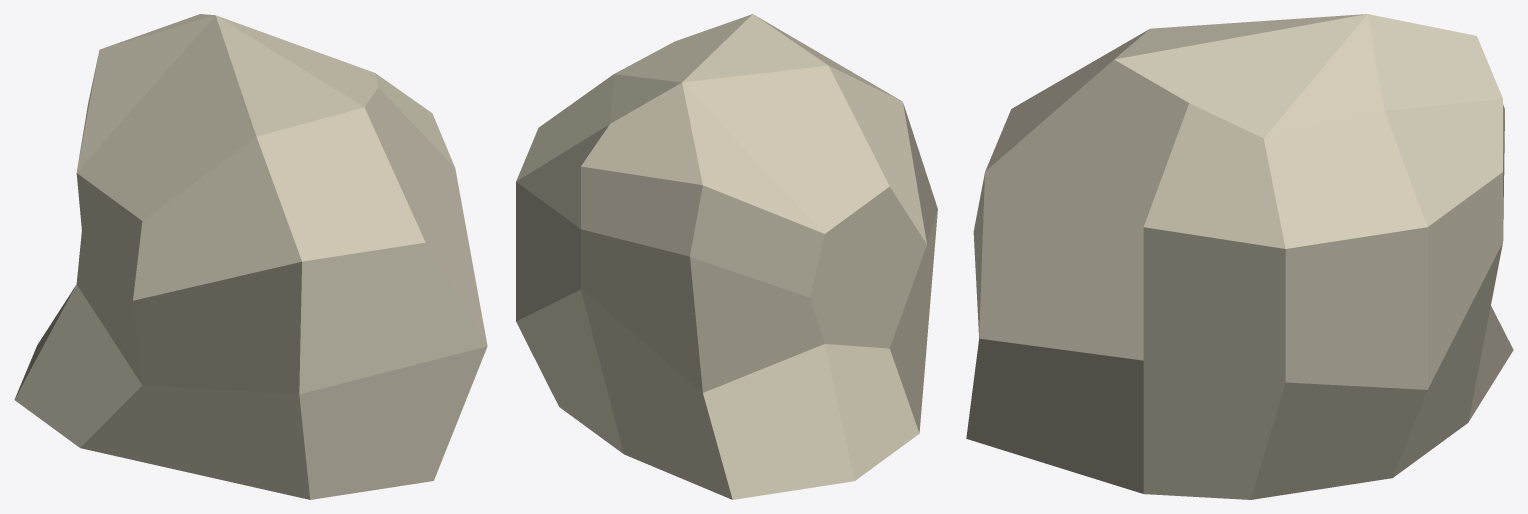
The model's file is Rock_15.fbx.
3 views of the same model, side by side, from view 1: azimuth 30°, elevation 25°; view 2: azimuth 150°, elevation 25°; view 3: azimuth 270°, elevation 25° (orthographic). The views are drawn at different scales.
Visible parts, largest first — view 1: pCylinder10; view 2: pCylinder10; view 3: pCylinder10.
Boxes of the visible parts, x1,y1,x2,y2 form: pCylinder10: (14,14,487,499); pCylinder10: (516,14,937,499); pCylinder10: (966,14,1513,499).
Size of the model in its own units: 4.71 by 4.25 by 5.26.
